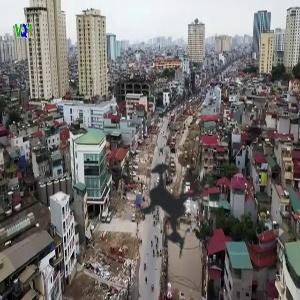drone: (95, 124, 256, 285)
